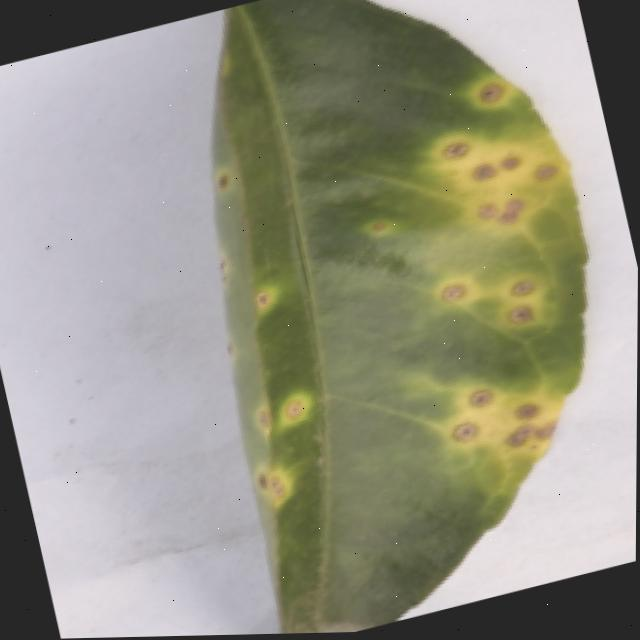canker: (213, 0, 587, 634), (402, 72, 588, 503), (257, 391, 311, 440), (254, 449, 294, 508), (255, 284, 277, 313), (216, 166, 233, 191)
